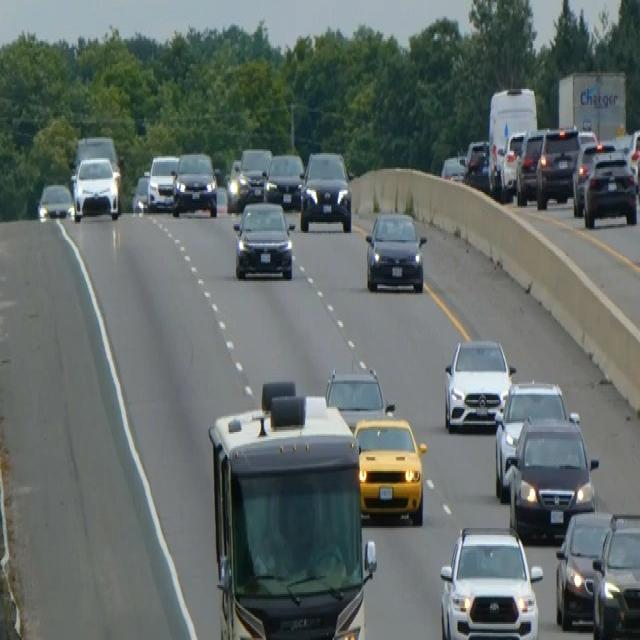bus: (206, 379, 377, 638)
car: (439, 524, 543, 638), (507, 410, 598, 540), (493, 379, 568, 501), (352, 414, 427, 524), (554, 508, 615, 630), (443, 336, 515, 432), (591, 510, 639, 638), (364, 208, 426, 293), (232, 199, 295, 281), (324, 364, 395, 430), (299, 149, 352, 233), (582, 150, 638, 228), (535, 124, 580, 208), (571, 139, 615, 215), (171, 149, 218, 217), (72, 154, 120, 220), (515, 126, 546, 204), (263, 151, 304, 208), (237, 146, 272, 201), (146, 153, 179, 210), (500, 128, 527, 196), (72, 133, 118, 171), (36, 182, 73, 222), (464, 138, 489, 188), (225, 156, 242, 210), (131, 169, 150, 213), (628, 126, 639, 194), (440, 153, 466, 181)
